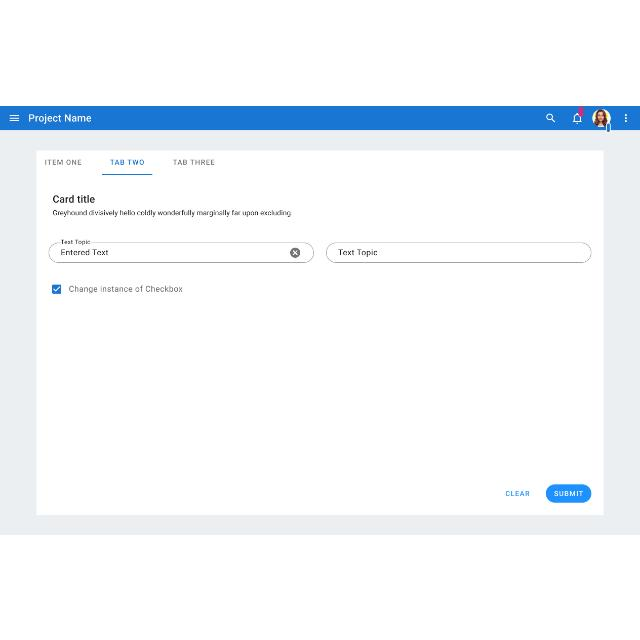QLabel: (52, 208, 292, 218), (66, 284, 184, 294), (26, 112, 92, 122), (50, 194, 96, 204), (106, 157, 146, 166), (171, 158, 215, 166), (42, 157, 84, 165), (552, 489, 584, 495), (506, 489, 530, 497)
VAppBar: (0, 106, 640, 130)
VBadge: (592, 109, 612, 128), (572, 106, 584, 124)
VBtn: (544, 483, 592, 503)
VCheckbox: (51, 284, 63, 294)
VIcon: (545, 112, 555, 122), (10, 114, 20, 120), (624, 112, 628, 121)
VTabs: (35, 148, 605, 516)
VTextField: (49, 238, 314, 262), (326, 241, 592, 263)
